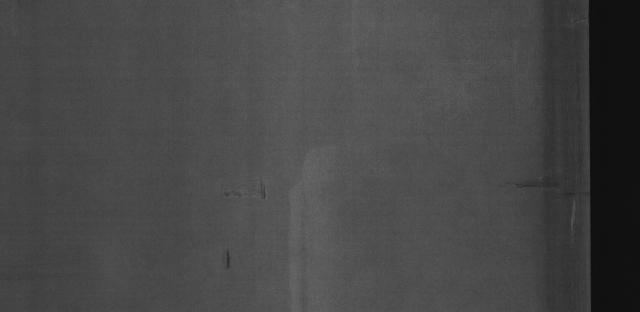rolled_pit: (474, 166, 590, 208), (205, 170, 283, 203), (216, 246, 242, 271)
